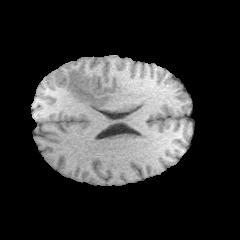glioma: (67, 69, 111, 109)
